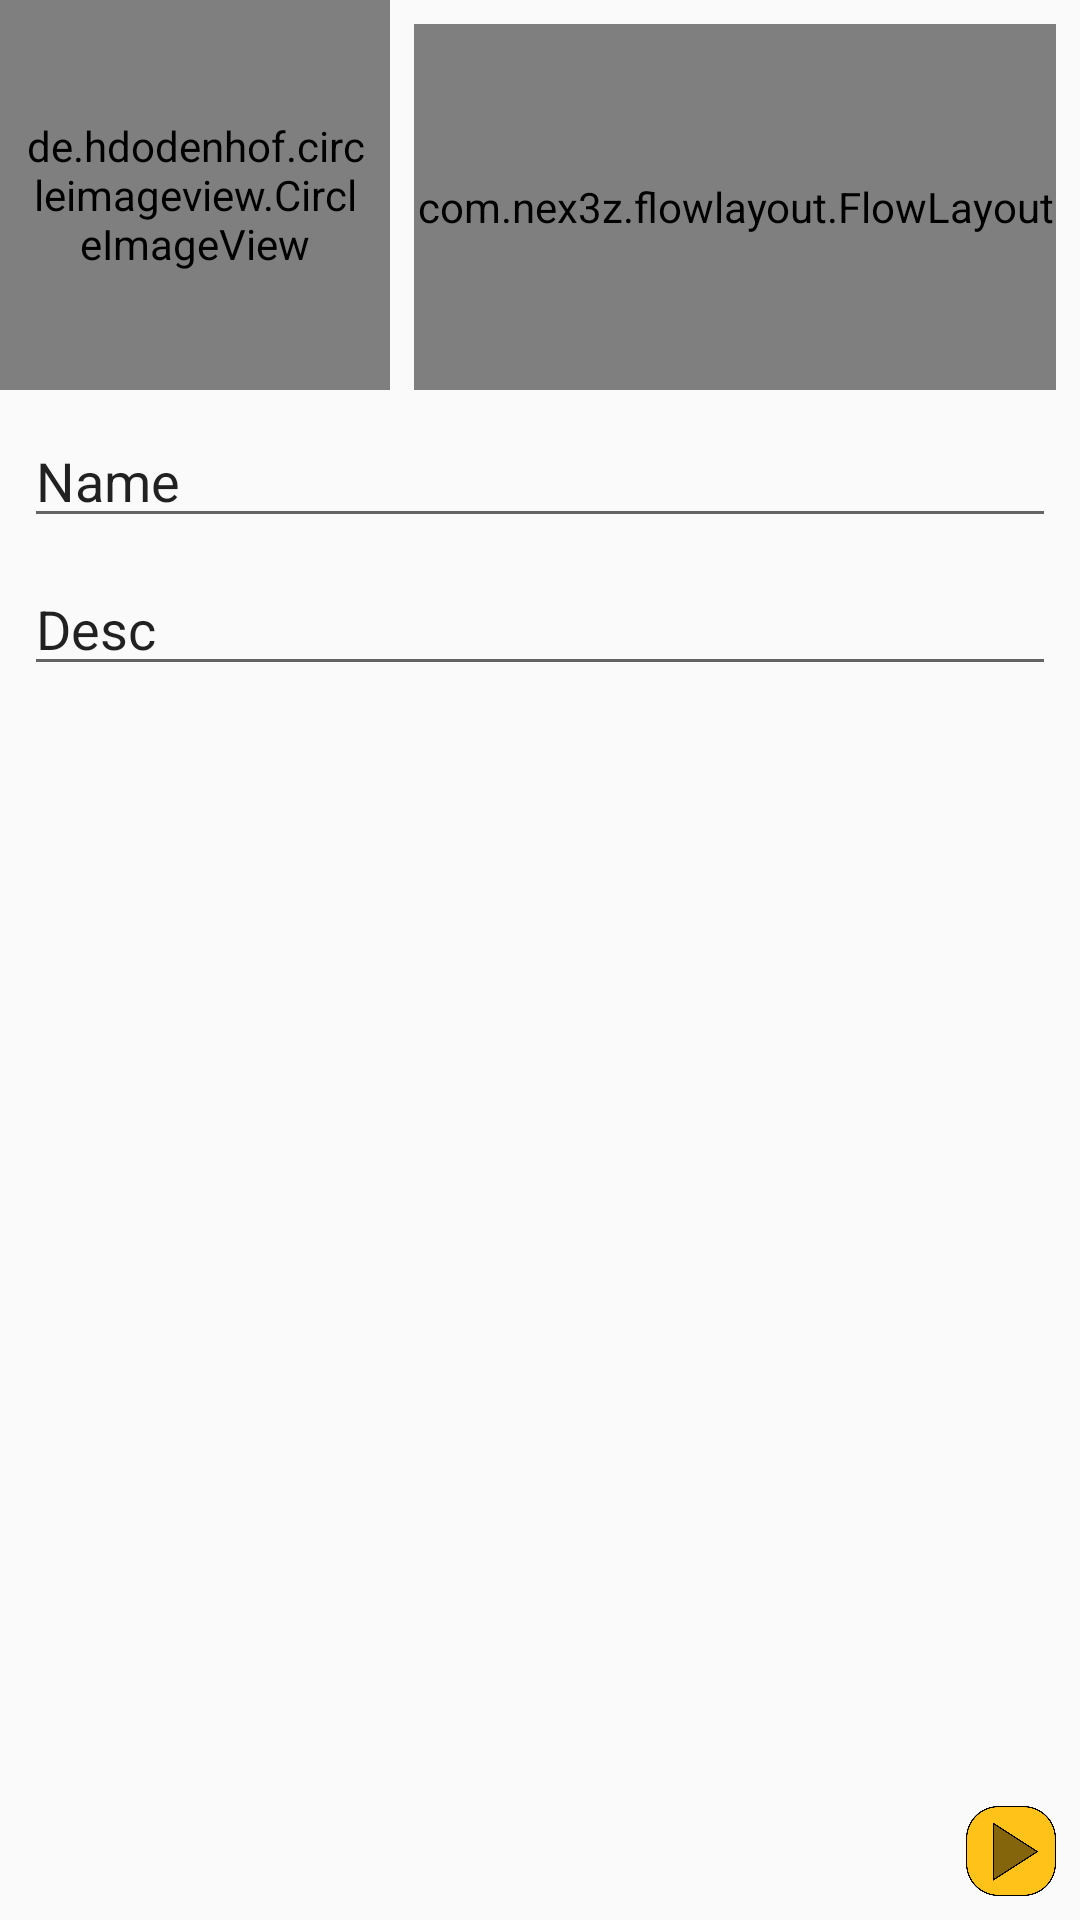

Named icons in this screenshot (1080×1920) and their bounding boxes, (x1, y1, x2, y2):
continue: (966, 1806, 1056, 1896)
